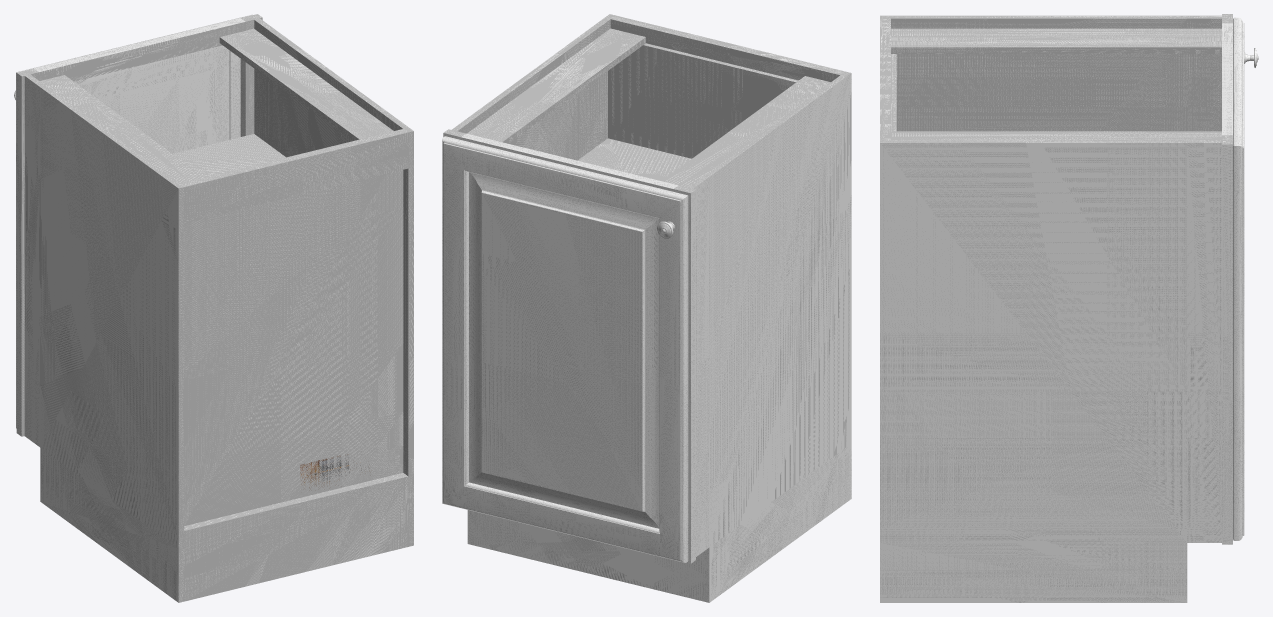
3 views of the same model, side by side, from view 1: azimuth 30°, elevation 25°; view 2: azimuth 150°, elevation 25°; view 3: azimuth 270°, elevation 25° (orthographic). The views are drawn at different scales.
Visible parts, largest first — view 1: mesh5_mesh5-geometry, mesh8_mesh8-geometry, mesh13_mesh13-geometry, mesh4_mesh4-geometry, mesh11_mesh11-geometry, mesh9_mesh9-geometry, mesh7_mesh7-geometry, mesh25_mesh25-geometry, mesh15_mesh15-geometry, mesh3_mesh3-geometry, mesh6_mesh6-geometry, mesh16_mesh16-geometry (+6 smaller); view 2: mesh8_mesh8-geometry, mesh26_mesh26-geometry, mesh5_mesh5-geometry, mesh24_mesh24-geometry, mesh23_mesh23-geometry, mesh9_mesh9-geometry, mesh14_mesh14-geometry, mesh21_mesh21-geometry, mesh22_mesh22-geometry, mesh11_mesh11-geometry, mesh15_mesh15-geometry, mesh7_mesh7-geometry (+9 smaller); view 3: mesh11_mesh11-geometry, mesh8_mesh8-geometry, mesh12_mesh12-geometry, mesh10_mesh10-geometry, mesh16_mesh16-geometry, mesh3_mesh3-geometry, mesh23_mesh23-geometry, mesh7_mesh7-geometry, mesh15_mesh15-geometry, mesh4_mesh4-geometry, mesh6_mesh6-geometry, mesh21_mesh21-geometry (+2 smaller).
Boxes of the visible parts, <box> form: mesh5_mesh5-geometry: <box>184,170,403,525</box>; mesh8_mesh8-geometry: <box>40,86,184,548</box>; mesh13_mesh13-geometry: <box>184,473,408,601</box>; mesh4_mesh4-geometry: <box>179,129,408,222</box>; mesh11_mesh11-geometry: <box>270,30,413,492</box>; mesh9_mesh9-geometry: <box>40,448,184,602</box>; mesh7_mesh7-geometry: <box>24,74,45,447</box>; mesh25_mesh25-geometry: <box>97,70,213,153</box>; mesh15_mesh15-geometry: <box>219,29,393,140</box>; mesh3_mesh3-geometry: <box>16,14,262,436</box>; mesh6_mesh6-geometry: <box>34,18,245,81</box>; mesh16_mesh16-geometry: <box>40,75,203,183</box>; mesh8_mesh8-geometry: <box>704,71,851,546</box>; mesh26_mesh26-geometry: <box>483,195,640,509</box>; mesh5_mesh5-geometry: <box>608,43,798,158</box>; mesh24_mesh24-geometry: <box>641,233,688,518</box>; mesh23_mesh23-geometry: <box>442,183,483,470</box>; mesh9_mesh9-geometry: <box>703,443,851,602</box>; mesh14_mesh14-geometry: <box>473,511,703,601</box>; mesh21_mesh21-geometry: <box>483,146,644,232</box>; mesh22_mesh22-geometry: <box>483,471,643,552</box>; mesh11_mesh11-geometry: <box>468,14,615,160</box>; mesh15_mesh15-geometry: <box>467,28,645,143</box>; mesh7_mesh7-geometry: <box>687,175,709,556</box>; mesh11_mesh11-geometry: <box>880,140,1187,542</box>; mesh8_mesh8-geometry: <box>880,15,1187,131</box>; mesh12_mesh12-geometry: <box>880,543,1187,602</box>; mesh10_mesh10-geometry: <box>1187,140,1221,542</box>; mesh16_mesh16-geometry: <box>891,28,1221,53</box>; mesh3_mesh3-geometry: <box>1222,14,1232,544</box>; mesh23_mesh23-geometry: <box>1233,192,1244,492</box>; mesh7_mesh7-geometry: <box>1187,15,1221,131</box>; mesh15_mesh15-geometry: <box>891,131,1221,139</box>; mesh4_mesh4-geometry: <box>880,18,890,139</box>; mesh6_mesh6-geometry: <box>1222,23,1232,135</box>; mesh21_mesh21-geometry: <box>1233,40,1244,126</box>.
Size of the model in its own units: 0.4384 by 0.7203 by 0.5376.
